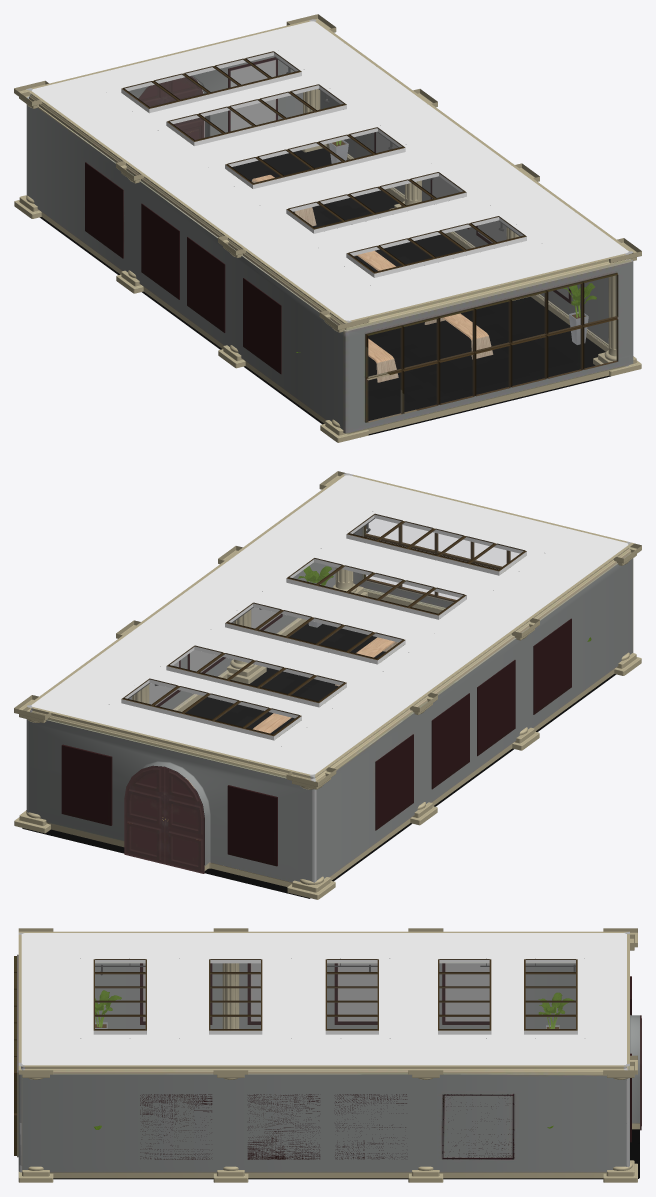
The model's file is salao.glb.
3 views of the same model, one above another, from view 1: azimuth 30°, elevation 25°; view 2: azimuth 150°, elevation 25°; view 3: azimuth 270°, elevation 25° (orthographic). The views are drawn at different scales.
Visible parts, largest first — view 1: Cube.004, Cube, Cube.005, Cube.001, Cube.002, Cube.003; view 2: Cube, Cube.004, Cube.005, Cube.002, Cube.001; view 3: Cube, Cube.004, Cube.005, Cube.008, Cube.006.
Part boxes in pixels (x1,y1,x2,y2): Cube.004: (32,21,628,435); Cube: (14,14,641,442); Cube.005: (121,51,617,421); Cube.001: (251,175,493,382); Cube.002: (138,76,204,139); Cube.003: (563,283,596,344); Cube: (14,471,641,899); Cube.004: (22,475,628,898); Cube.005: (121,513,526,740); Cube.002: (124,766,204,873); Cube.001: (185,637,398,788); Cube: (14,928,639,1182); Cube.004: (21,933,639,1179); Cube.005: (93,959,577,1034); Cube.008: (538,992,573,1028); Cube.006: (95,990,121,1028).
Bounding box in the file's own units: 8.55 × 3.32 × 15.99.
4 materials, 4 textured.
